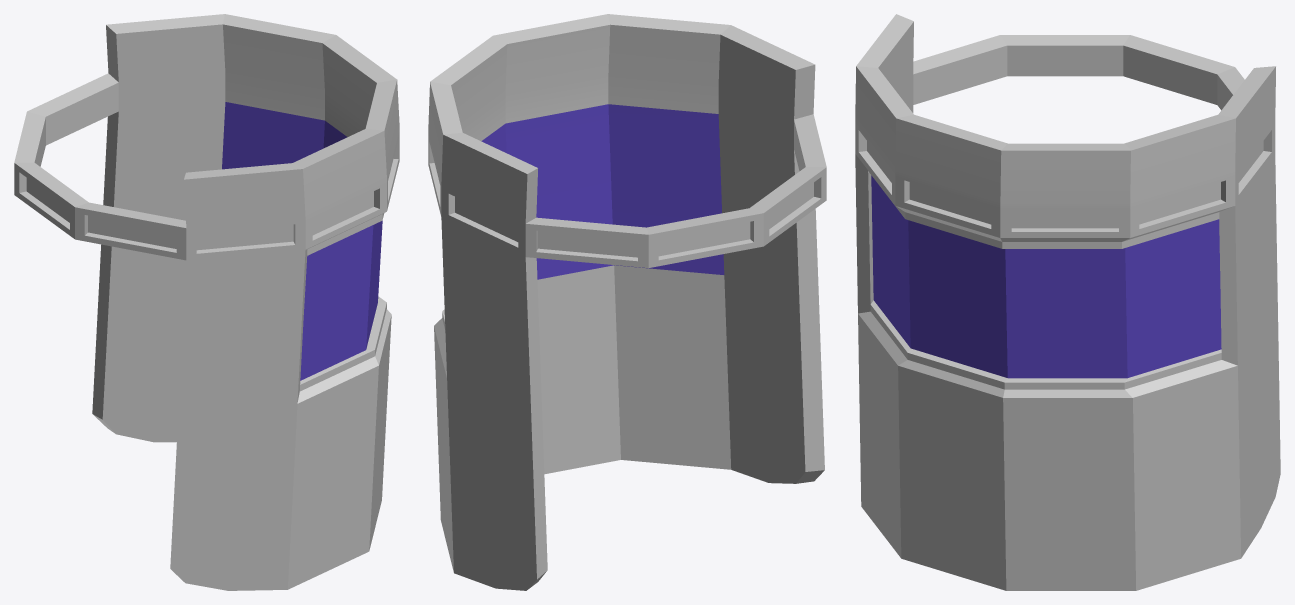
File: Mascara.fbx
The picture shows the model from 3 angles, left to right: view 1: azimuth 30°, elevation 25°; view 2: azimuth 150°, elevation 25°; view 3: azimuth 270°, elevation 25°; orthographic projection. The views are drawn at different scales.
Parts seen in each view (by area): view 1: Cylinder.002; view 2: Cylinder.002; view 3: Cylinder.002.
Boxes of the visible parts, x1,y1,x2,y2 form: Cylinder.002: (14,14,399,590); Cylinder.002: (428,14,826,590); Cylinder.002: (855,14,1280,590).
Bounding box in the file's own units: 190 × 235 × 203.
